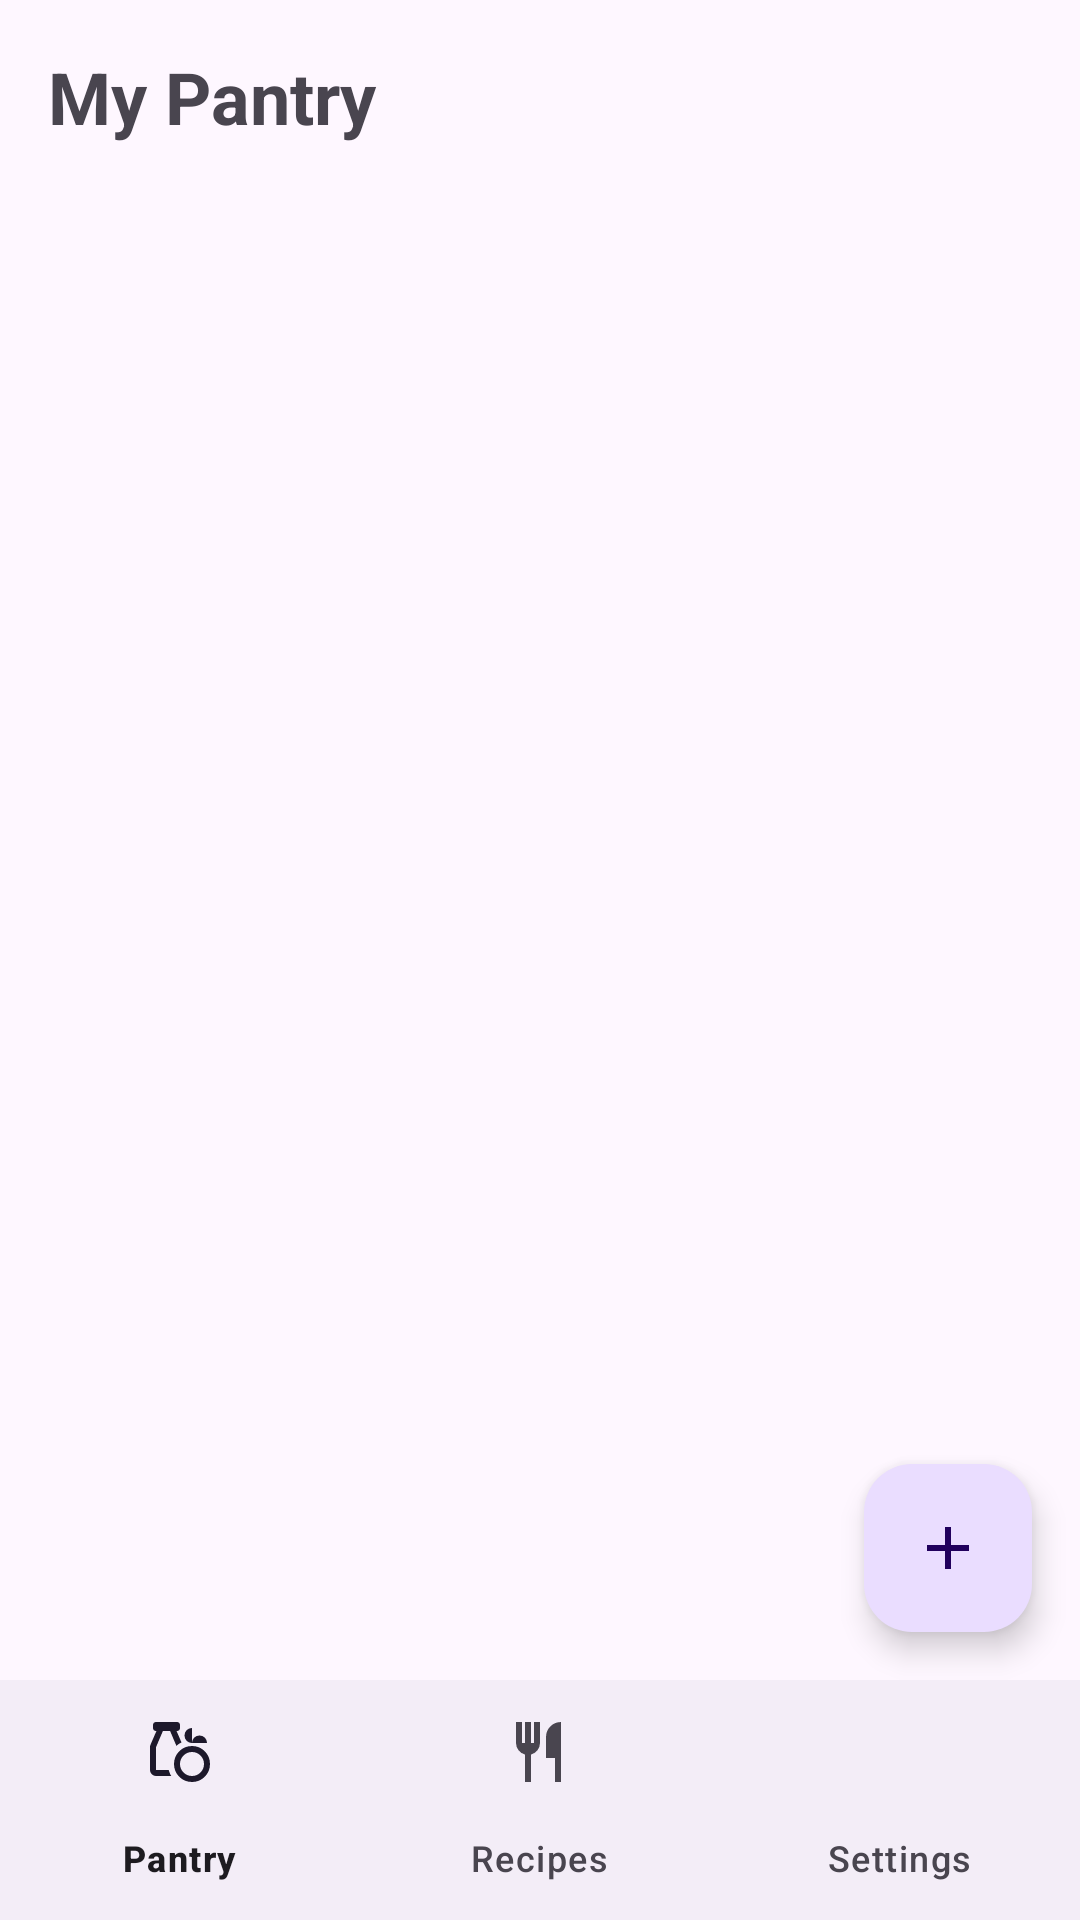

Where icons sit on this 1080w x 1920h app screen, as (x1, y1, x2, y2):
Add ingredient: (864, 1464, 1032, 1632)
